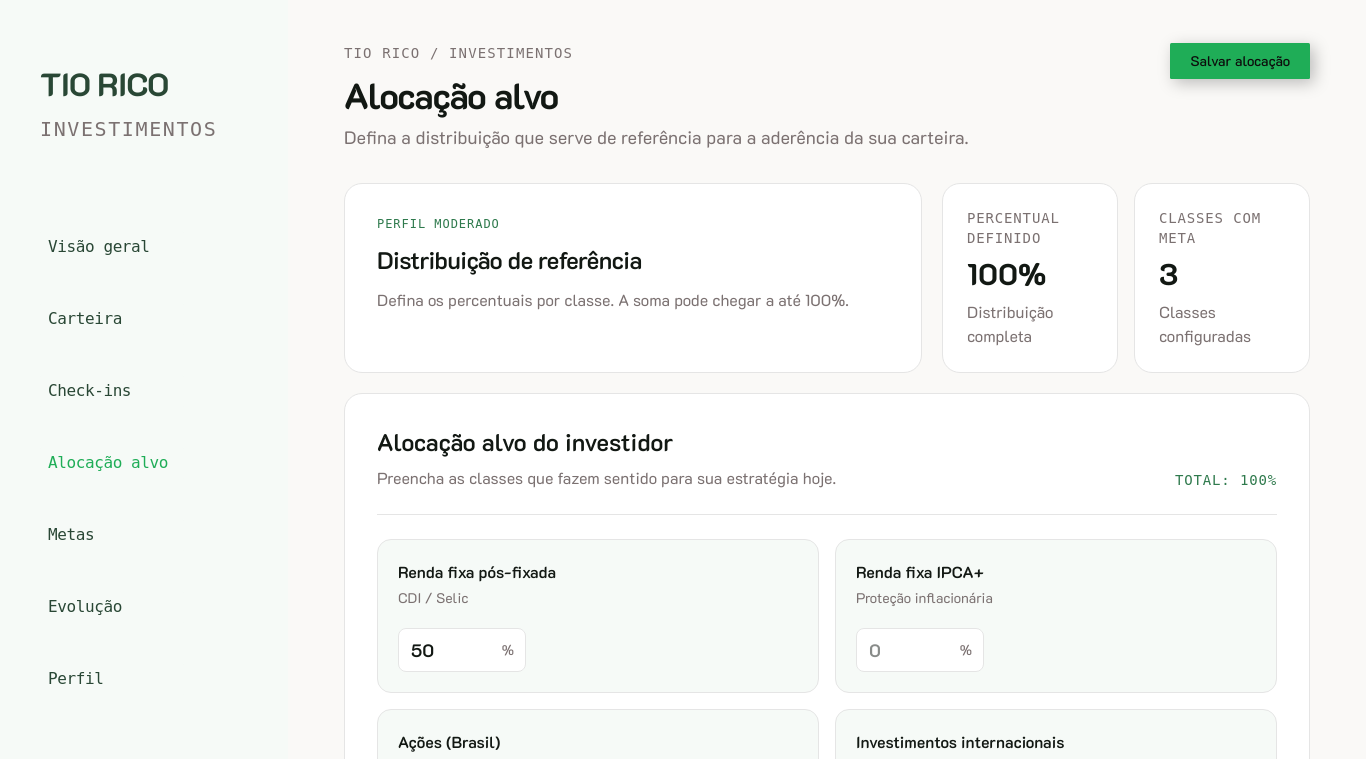
TargetAllocation (alocação alvo) › salva com PATCH /api/profile só as classes preenchidas, aceitando vírgula
Expected: the text "TOTAL: 100%" is shown, left=1175, top=470, right=1277, bottom=490
Replace the text in the field named "Percentual para Renda fixa pós-fixada" with "39,5": [462, 650] box left=398, top=628, right=526, bottom=672
(page scrolled)
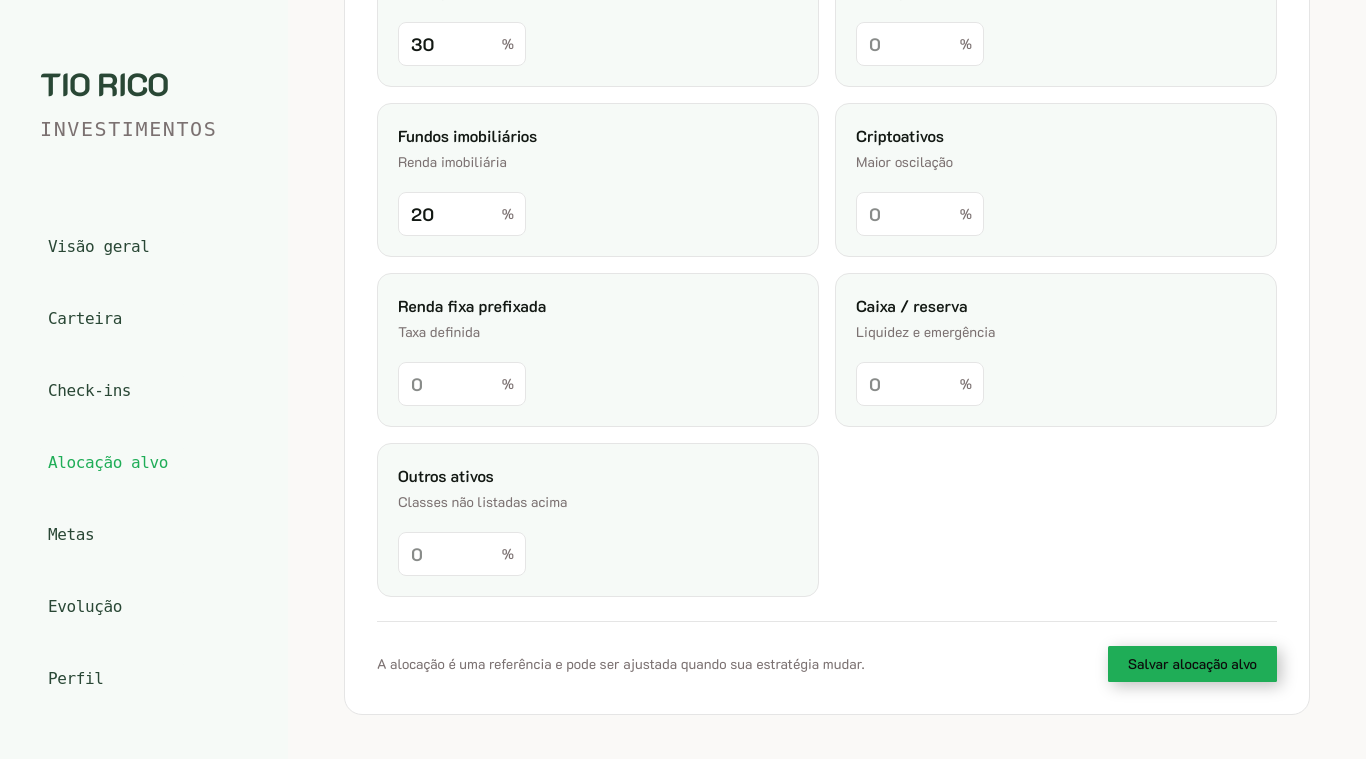
In the field labelled "Caixa / reserva Liquidez e emergência %": [920, 384] box left=856, top=362, right=984, bottom=406, type "10,5"
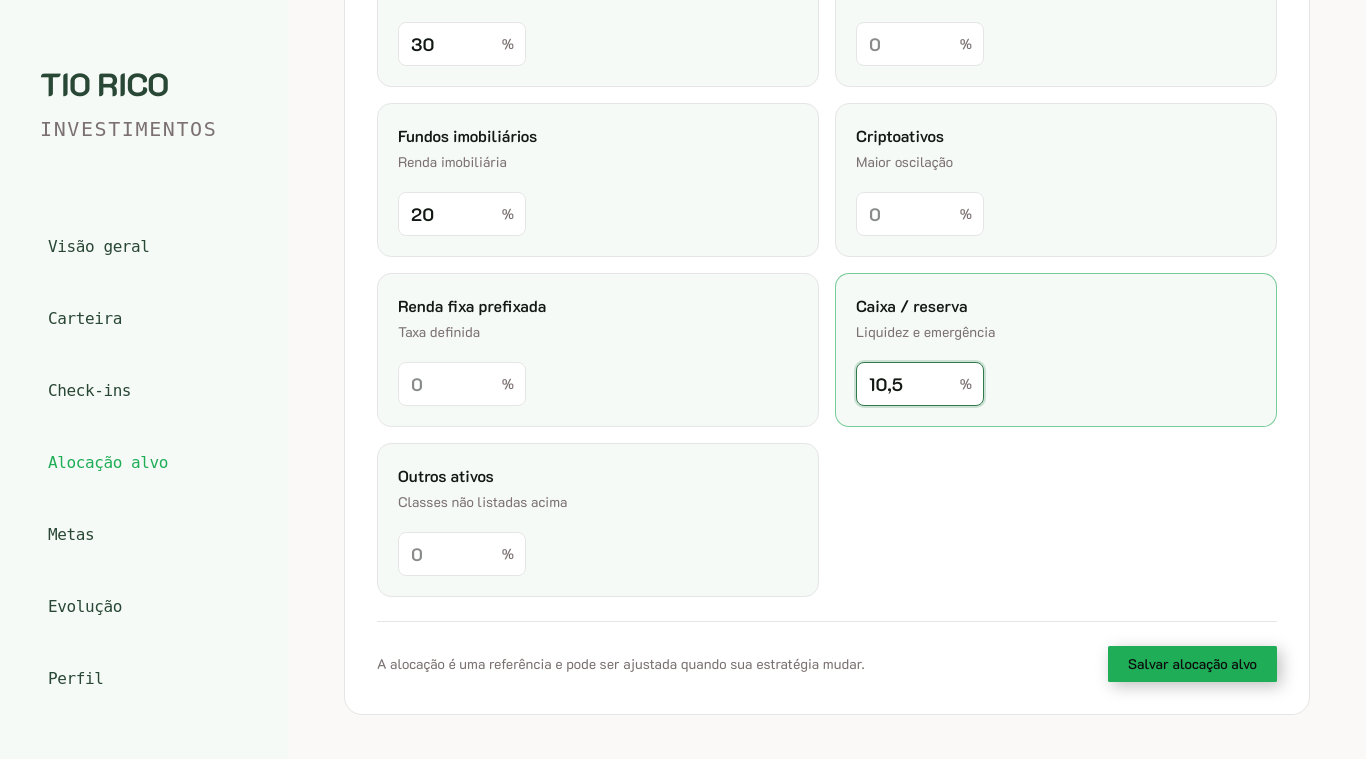
Click the button "Salvar alocação alvo": [1192, 664] box left=1108, top=646, right=1277, bottom=682
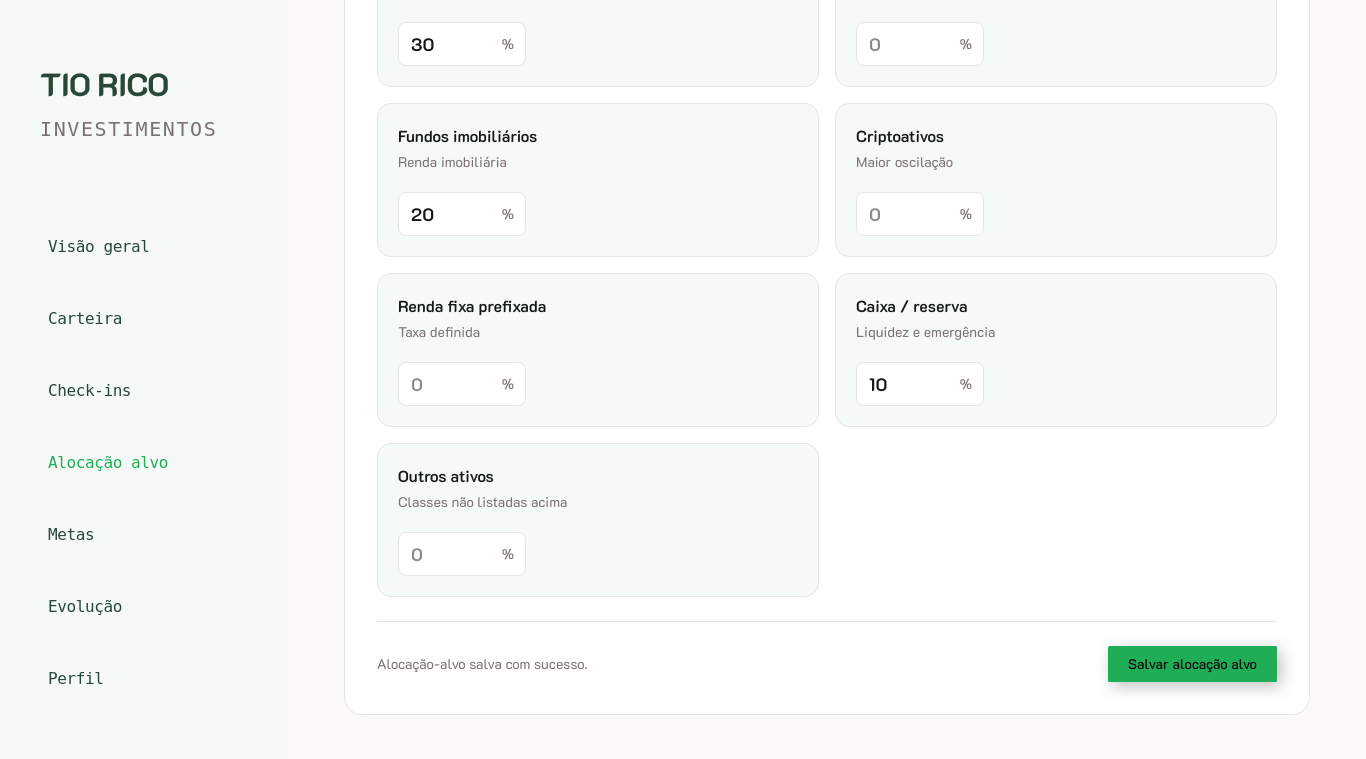
Result: the text "Alocação-alvo salva com sucesso." is shown at left=377, top=654, right=588, bottom=674
